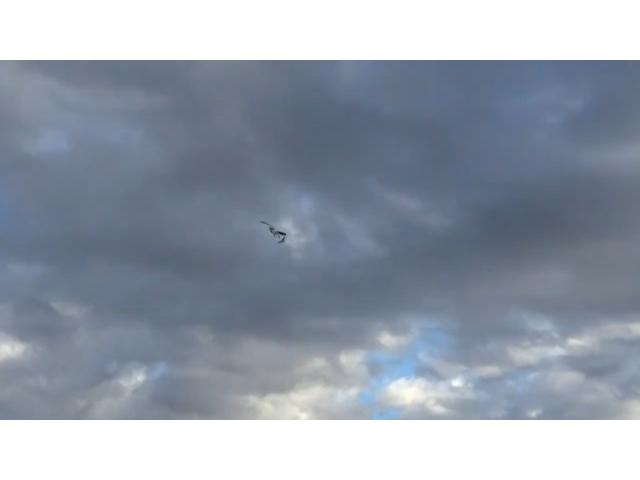Anti-Drone: (259, 219, 289, 243)
